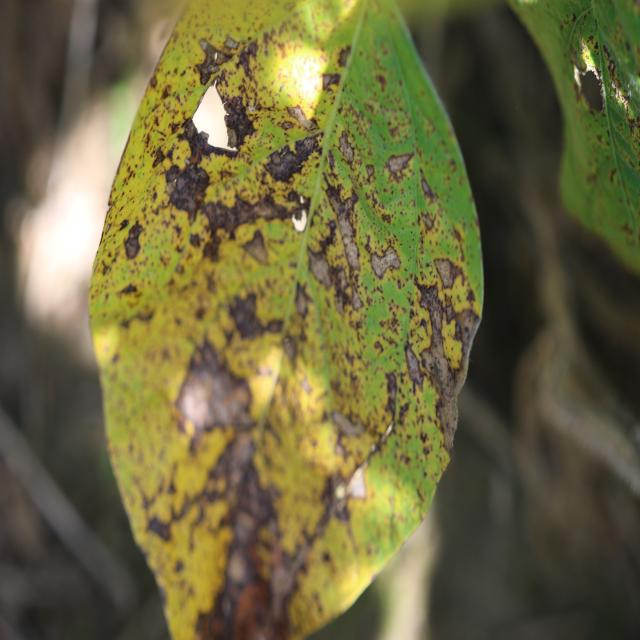Bacterial_Blight: (174, 341, 255, 437), (337, 421, 392, 508), (308, 223, 348, 311), (264, 131, 319, 184), (109, 211, 155, 272), (164, 160, 209, 219), (227, 290, 274, 340), (266, 552, 299, 621), (221, 93, 257, 150), (434, 379, 459, 457), (453, 305, 480, 354), (435, 254, 467, 292), (369, 245, 401, 280), (232, 507, 260, 546), (241, 228, 270, 265), (331, 408, 363, 438), (226, 549, 250, 585), (405, 344, 424, 386), (146, 512, 173, 541), (287, 105, 316, 132), (291, 192, 311, 231), (235, 43, 257, 78), (386, 151, 413, 177), (294, 282, 312, 320), (384, 370, 398, 415), (337, 130, 356, 162), (426, 363, 445, 395), (183, 119, 200, 147), (420, 174, 436, 202), (152, 144, 168, 169), (420, 210, 436, 233), (322, 72, 342, 90), (224, 36, 239, 50), (103, 219, 113, 238), (365, 164, 375, 181), (375, 73, 386, 88), (283, 1, 297, 12), (419, 430, 429, 445), (280, 121, 294, 131), (166, 180, 176, 194), (323, 550, 332, 563), (199, 40, 209, 51), (247, 102, 256, 112), (107, 201, 114, 211), (425, 261, 431, 268)
Soybean: (86, 0, 485, 640)
